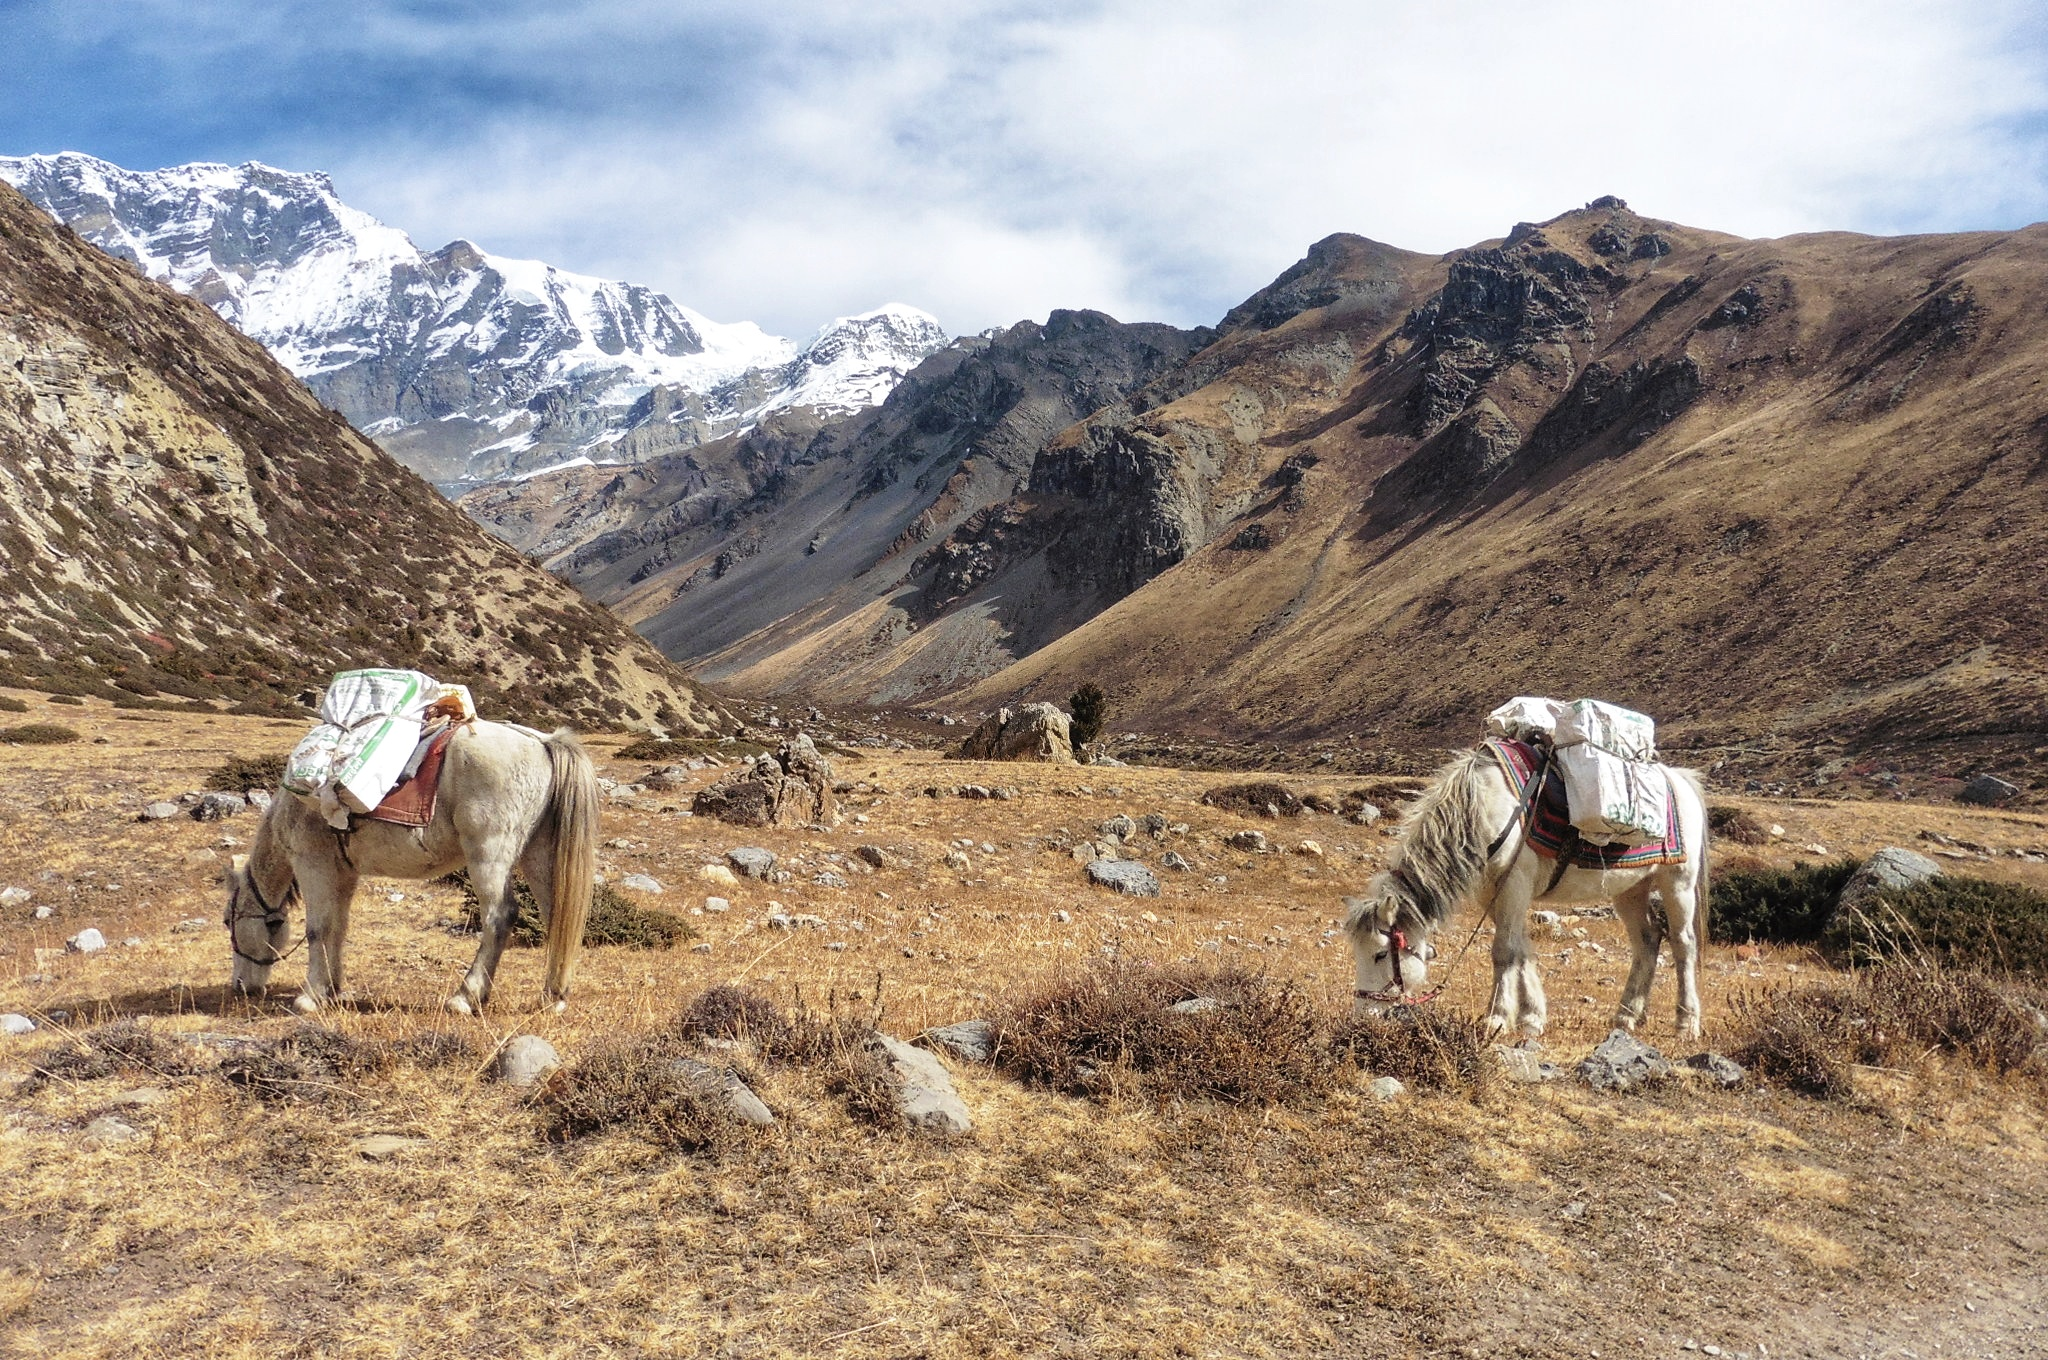equine: (1306, 700, 1752, 1076), (199, 660, 620, 1052)
